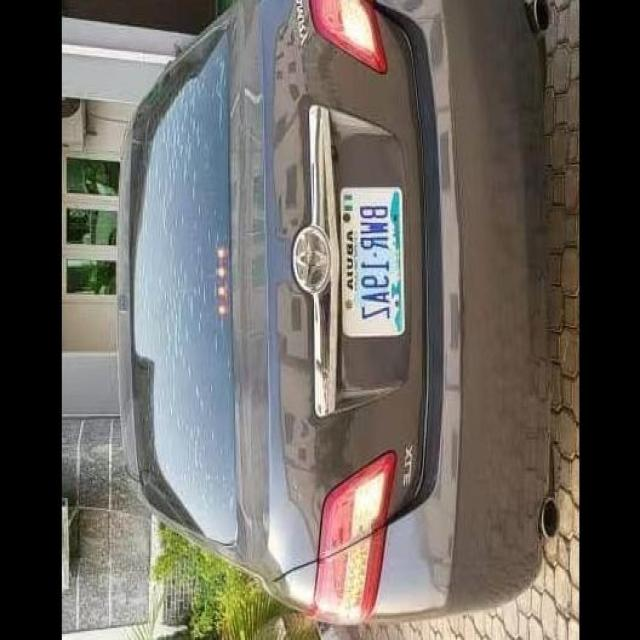Nigerian License Plate - vdataset benjamin-daria: (334, 184, 410, 344)
